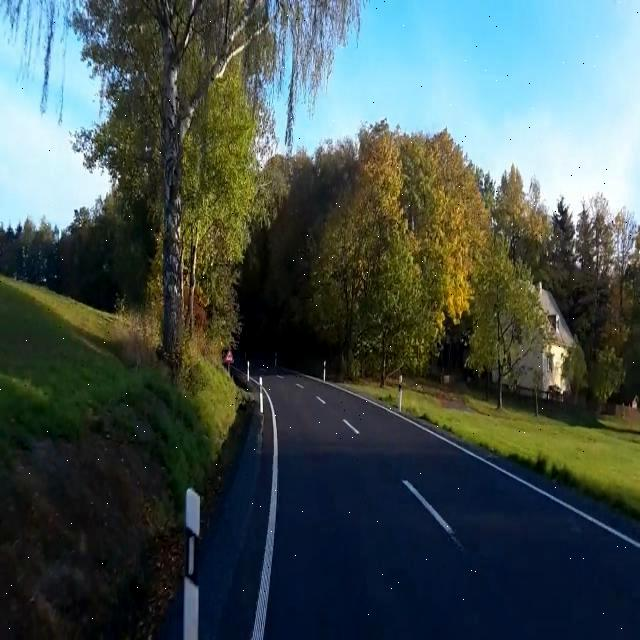lane: (330, 384, 639, 549), (251, 390, 278, 639), (403, 480, 464, 549), (342, 419, 360, 435)
road: (264, 373, 640, 639), (198, 410, 274, 639)
